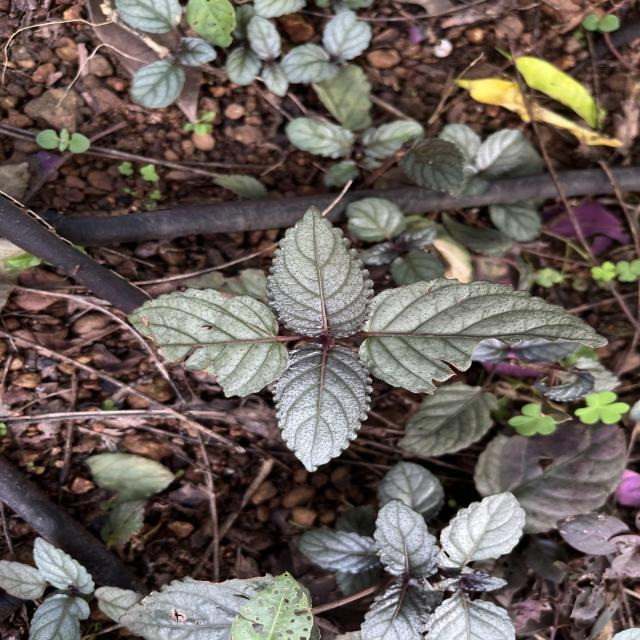Hemigraphis colorata: (356, 274, 612, 396), (262, 201, 376, 341), (269, 340, 376, 474), (438, 489, 527, 579), (370, 496, 443, 582), (32, 535, 96, 595)
